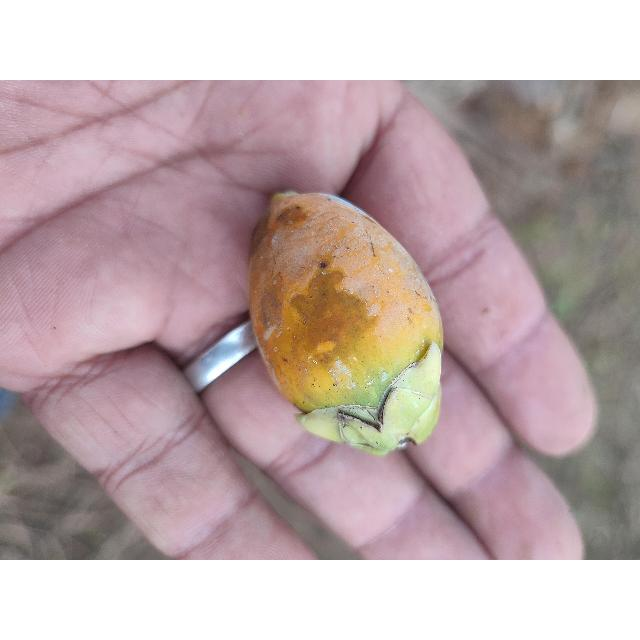good: (248, 192, 445, 458)
